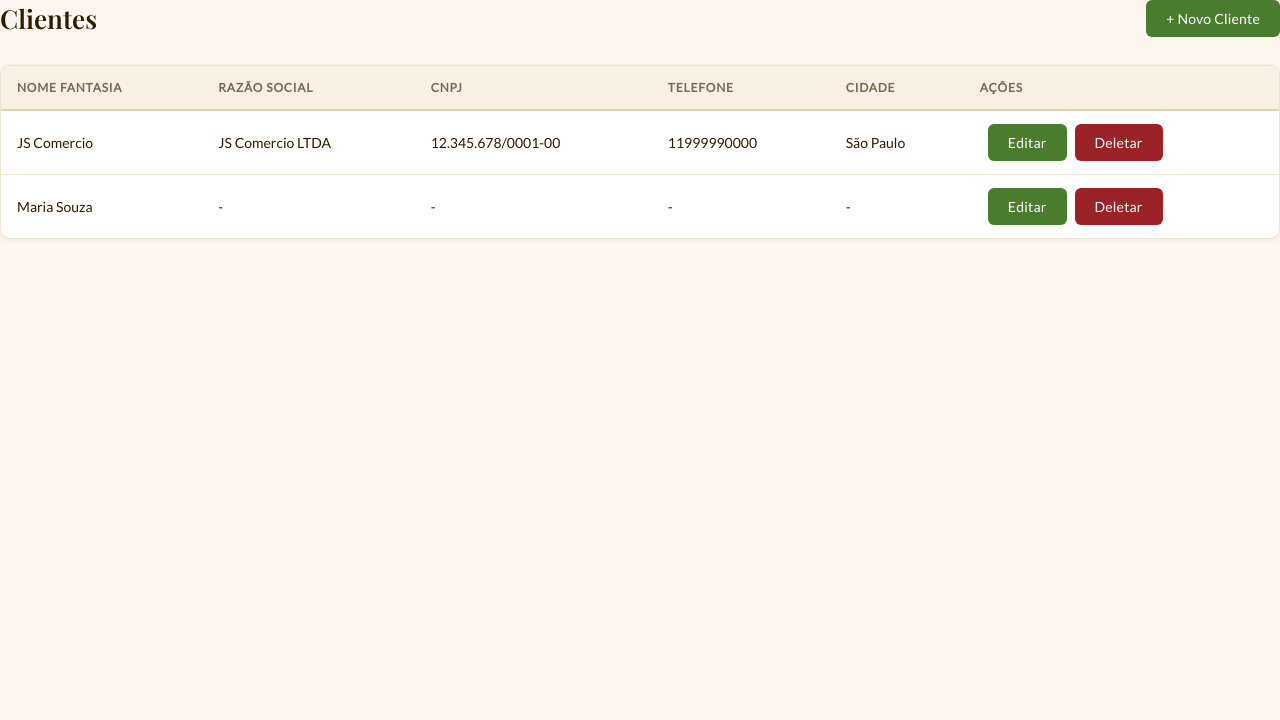
it: Clientes › abre modal de novo cliente ao clicar no botão
Expected: the text "JS Comercio" is shown, [1,110,202,174]
Click the button "+ Novo Cliente". click: (1213, 18)
box: [1146,0,1279,37]
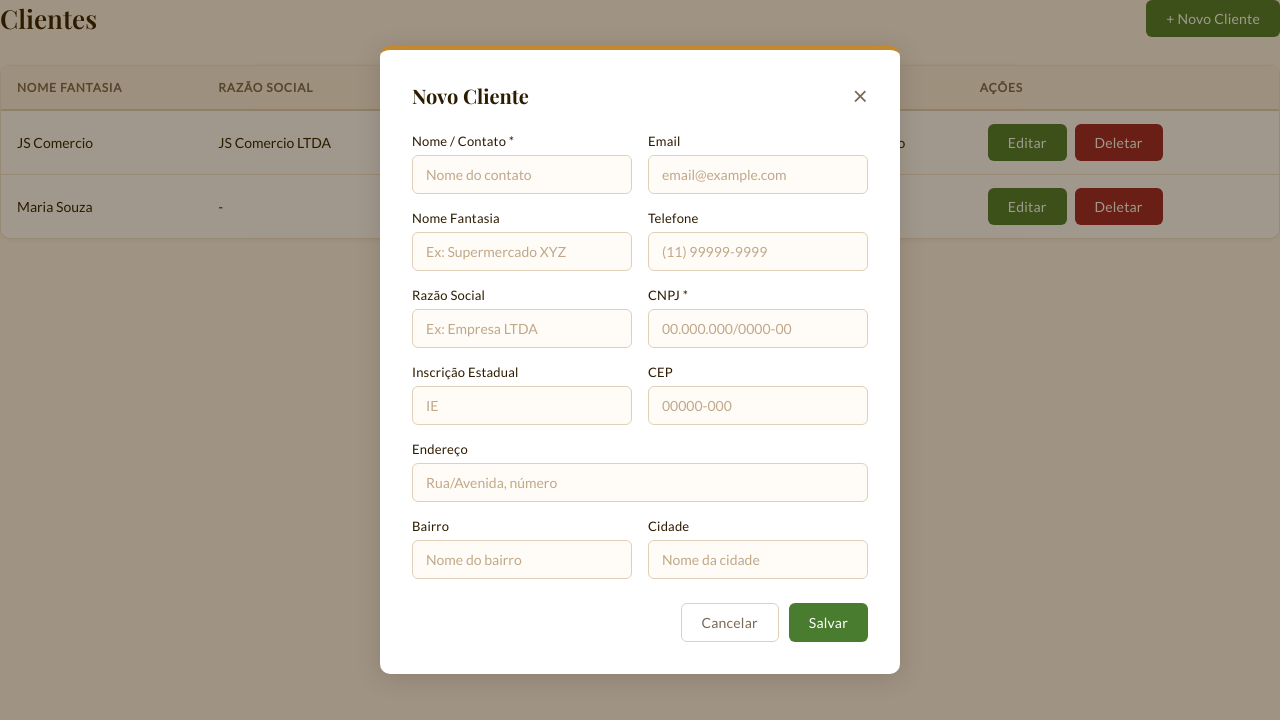
Expected: the heading "Novo Cliente" is shown, [412,82,529,109]
